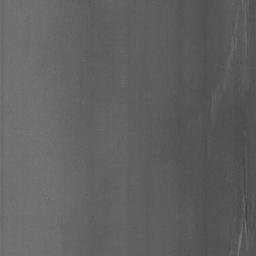Silk spot: (227, 134, 256, 256), (246, 0, 255, 56), (203, 84, 211, 112), (240, 107, 248, 129)
